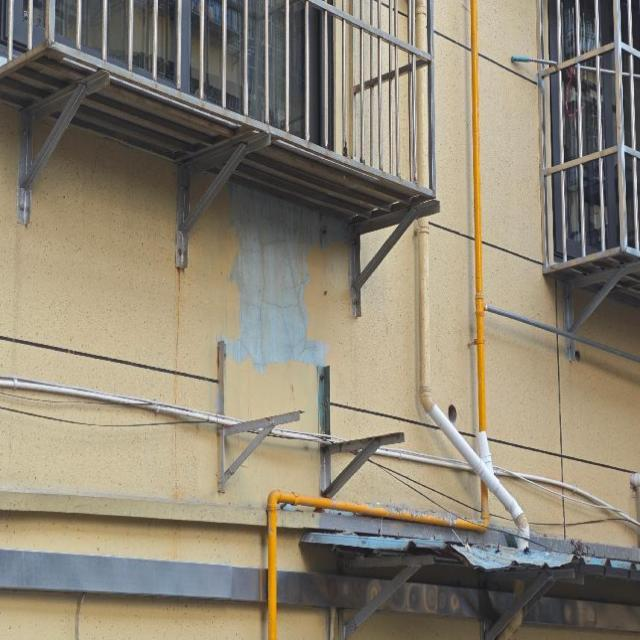spalling: (217, 177, 351, 392)
